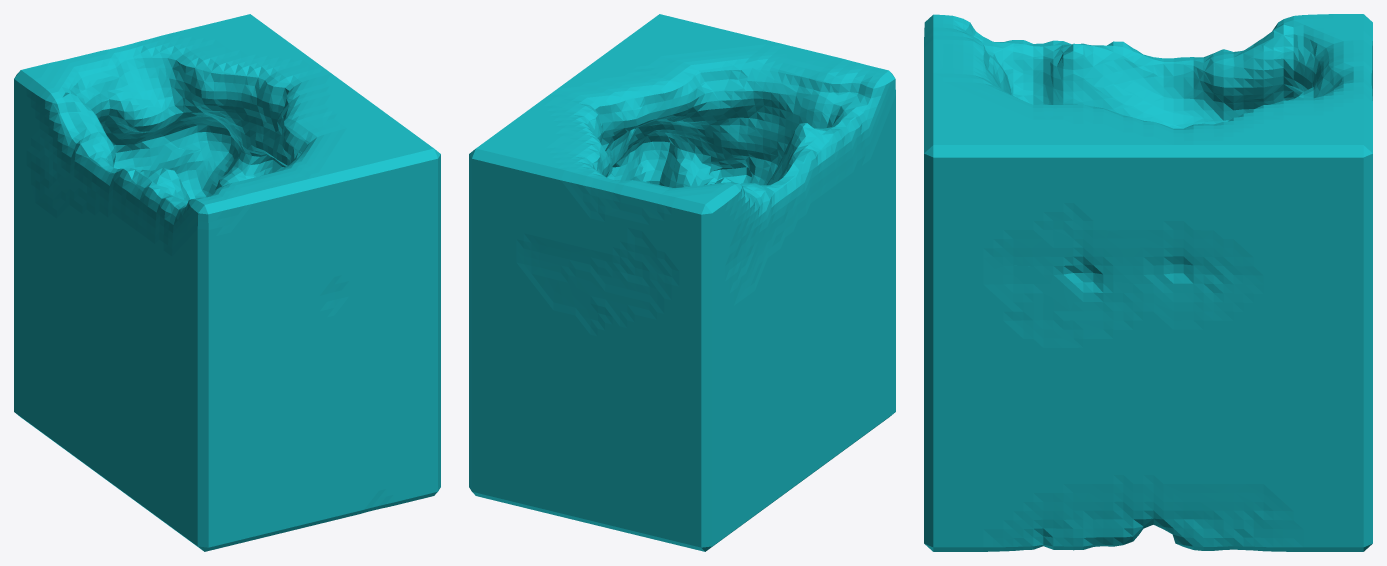
3 views of the same model, side by side, from view 1: azimuth 30°, elevation 25°; view 2: azimuth 150°, elevation 25°; view 3: azimuth 270°, elevation 25° (orthographic). The views are drawn at different scales.
Visible parts, largest first — view 1: Liquid_Domain; view 2: Liquid_Domain; view 3: Liquid_Domain.
Part boxes in pixels (x1,y1,x2,y2): Liquid_Domain: (14, 14, 440, 551); Liquid_Domain: (469, 14, 895, 551); Liquid_Domain: (924, 14, 1372, 551).
Bounding box in the file's own units: 79.09 × 108 × 108.
